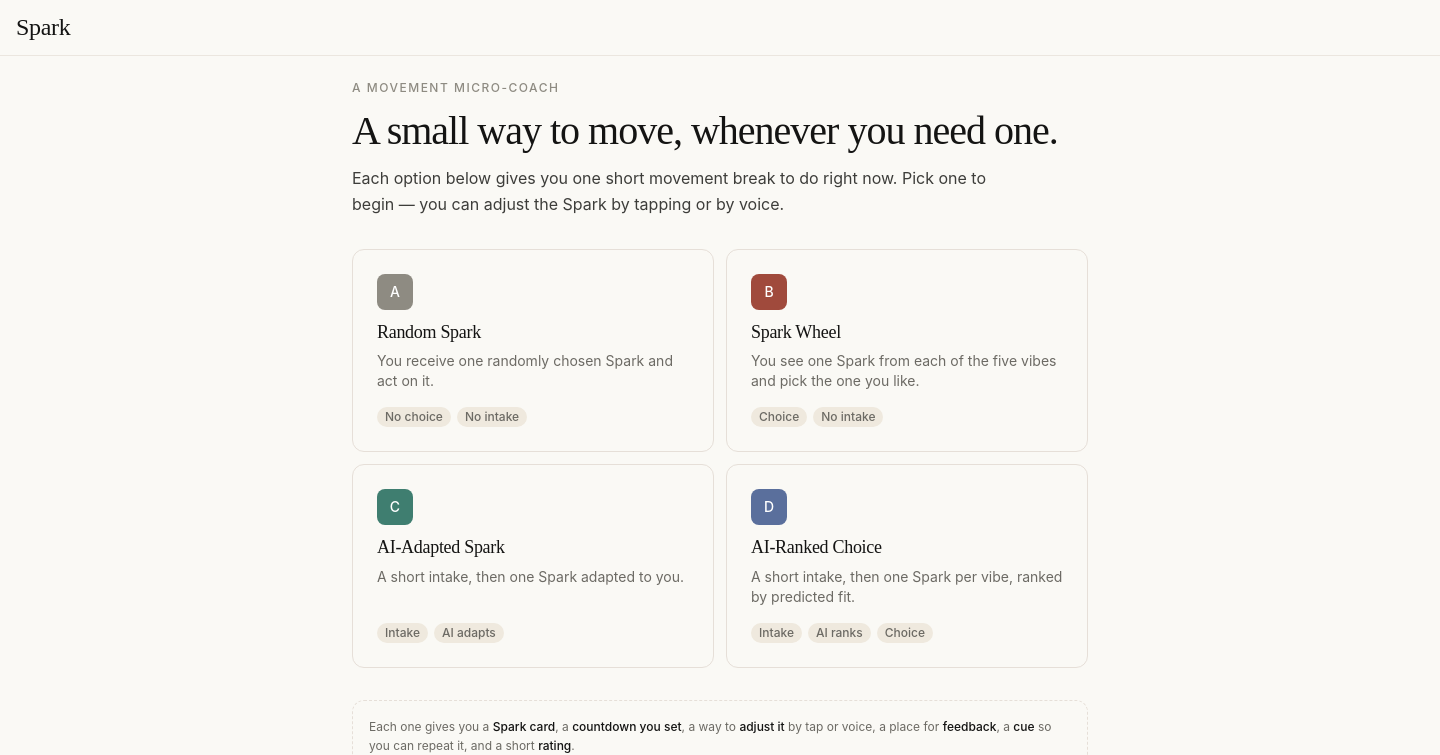
Test: Spark page › auto-fetching conditions request exactly once on entry
Click the button with test id "spark-cond-B" at (907, 351), box [726,249,1088,452]
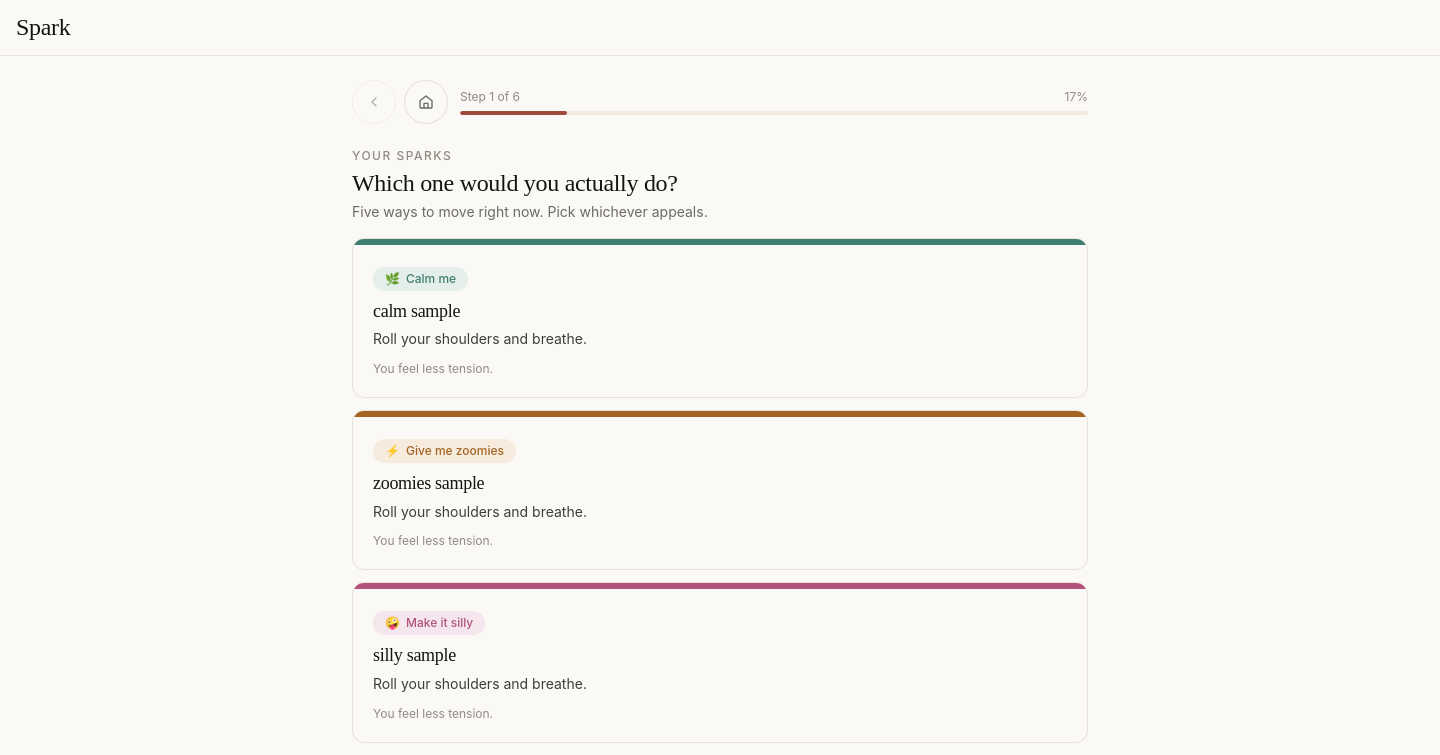
Expected: the button with test id "spark-sample-calm" is shown, [352,238,1088,398]
